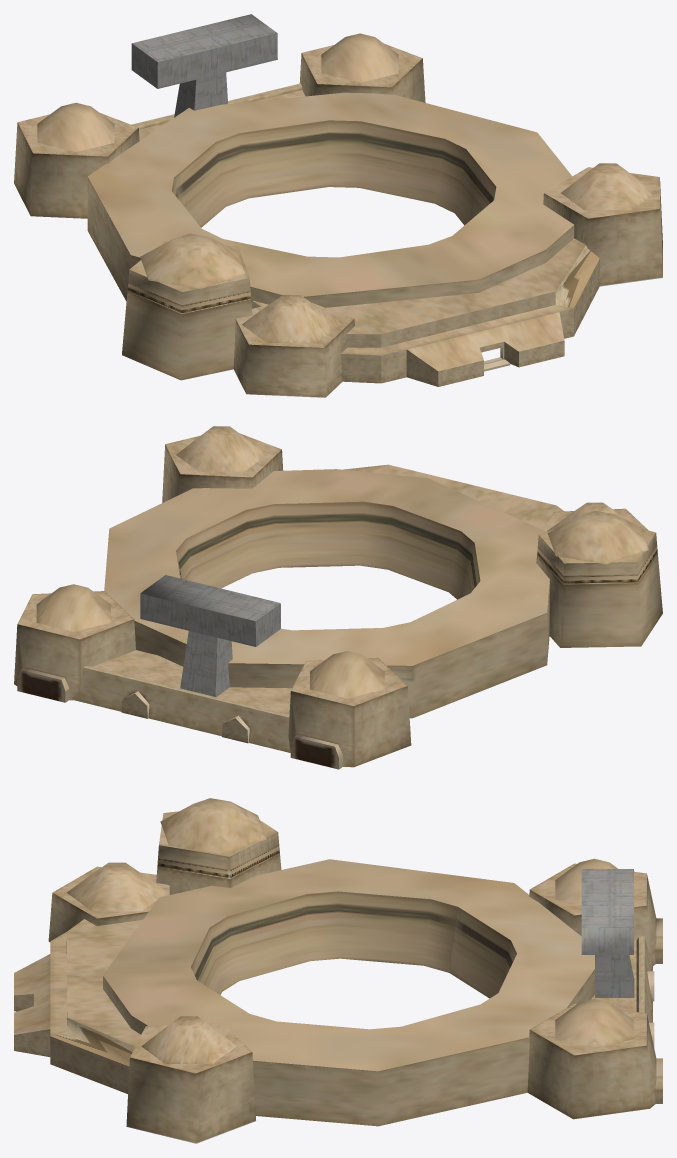
File: mun_tato_starport_s01_u01_r0_mesh_l4.fbx
The picture shows the model from 3 angles, top to bottom: view 1: azimuth 30°, elevation 25°; view 2: azimuth 150°, elevation 25°; view 3: azimuth 270°, elevation 25°; orthographic projection. The views are drawn at different scales.
Visible parts, largest first — view 1: mesh_node; view 2: mesh_node; view 3: mesh_node.
Part boxes in pixels (<box>): mesh_node: <box>14,14,662,397</box>; mesh_node: <box>14,426,662,769</box>; mesh_node: <box>14,798,662,1143</box>.
Size of the model in its own units: 150 by 33.1 by 160.
